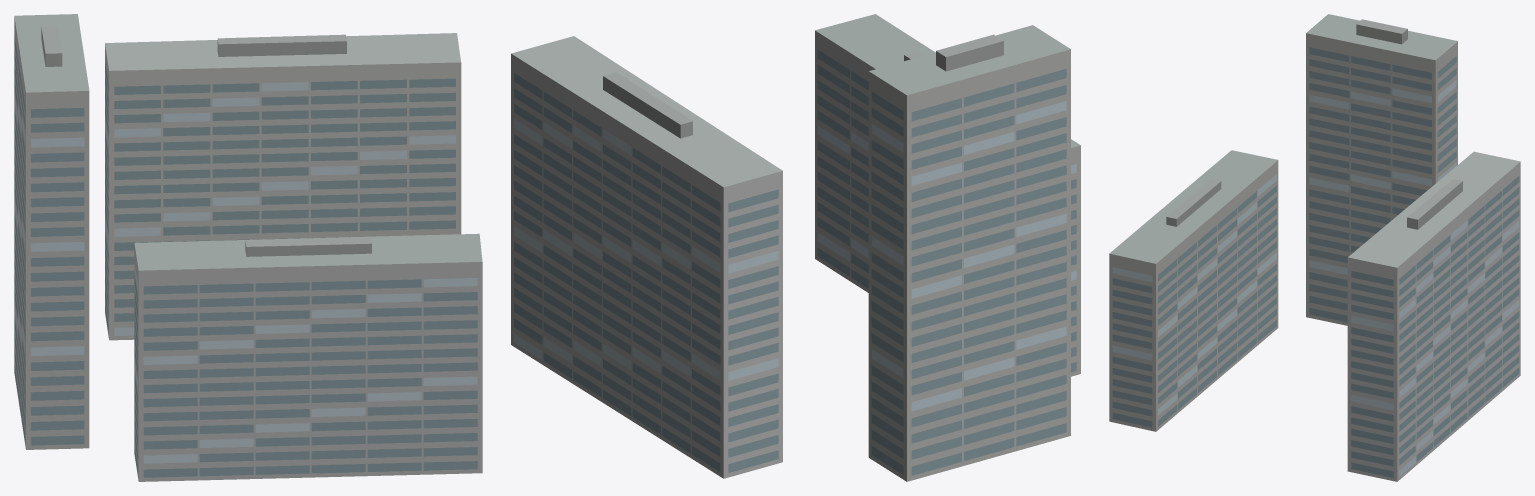
The model's file is apt-a15004506.glb.
3 renders of one model, left to right at view 1: azimuth 30°, elevation 25°; view 2: azimuth 150°, elevation 25°; view 3: azimuth 270°, elevation 25°, orthographic. The views are drawn at different scales.
Visible parts, largest first — view 1: apt-a15004506; view 2: apt-a15004506; view 3: apt-a15004506.
Part boxes in pixels (x1,y1,x2,y2): apt-a15004506: (14,14,482,481); apt-a15004506: (511,14,1080,481); apt-a15004506: (1109,14,1520,481).
Size of the model in its own units: 89.73 by 67 by 84.84.
